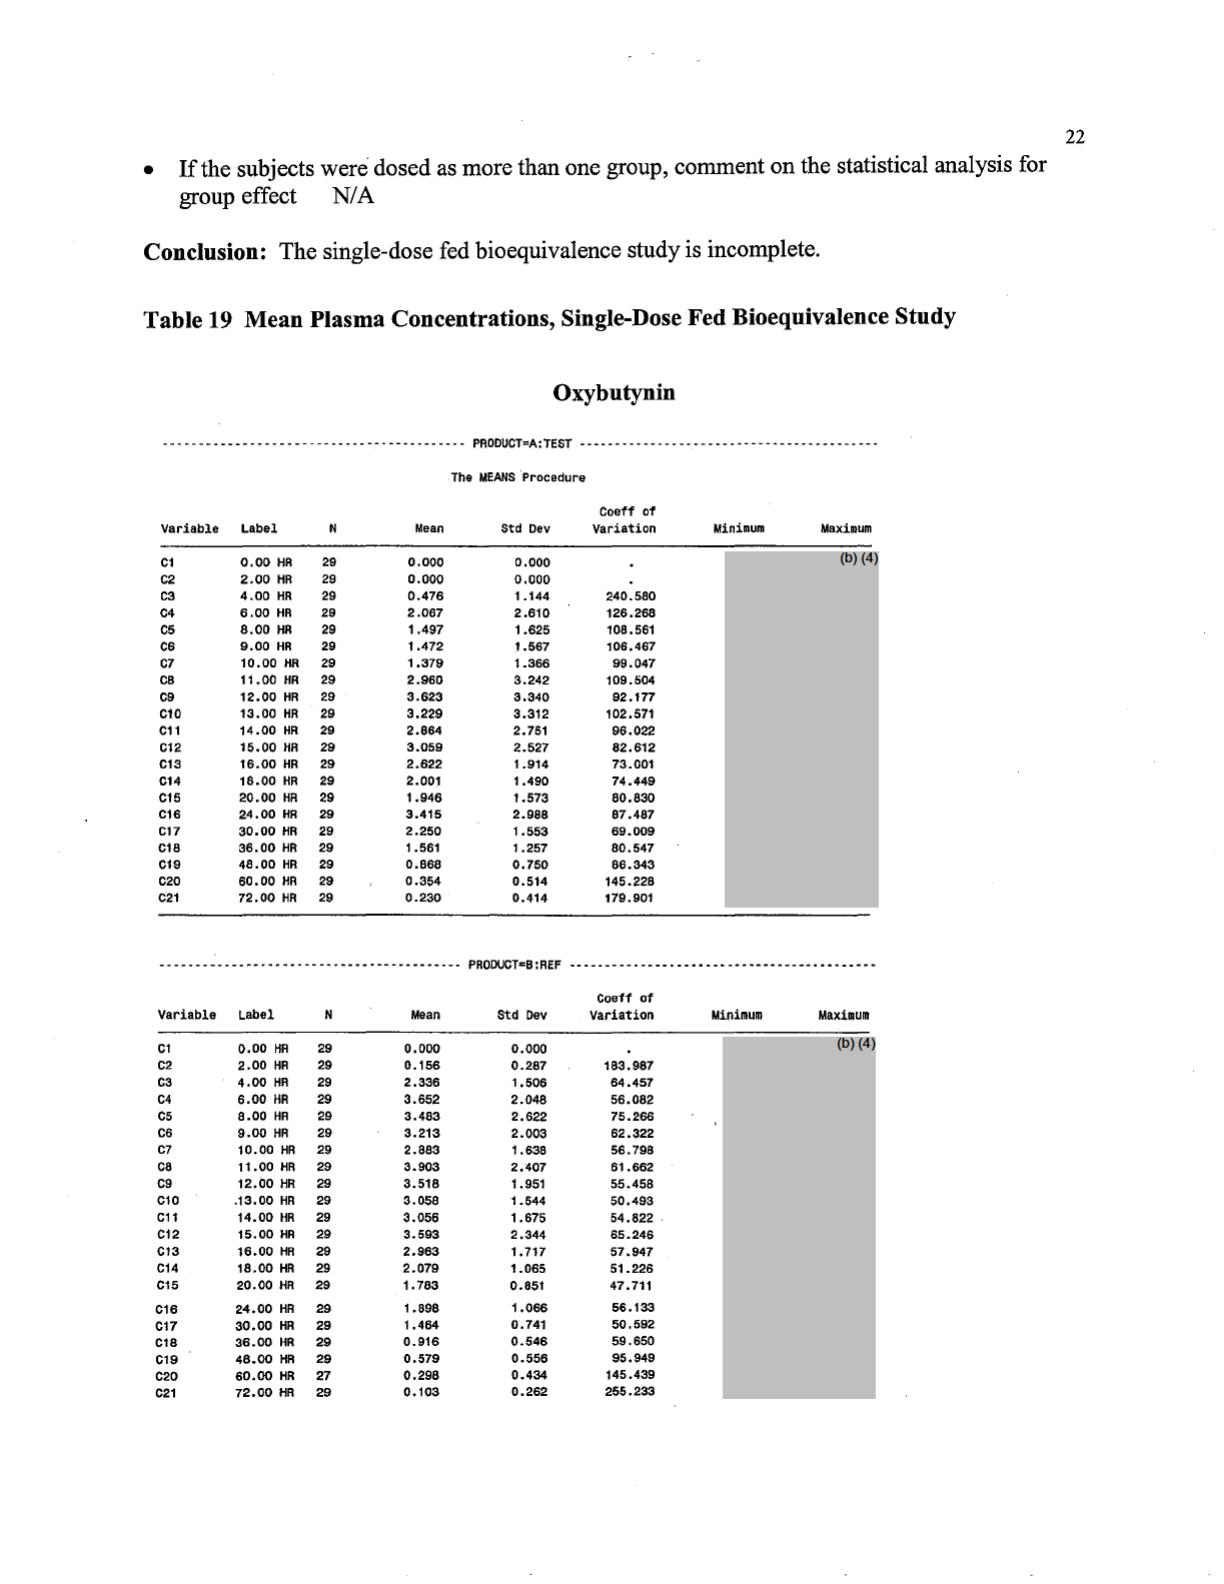partial_lined: (156, 987, 879, 1403), (156, 501, 881, 906)
